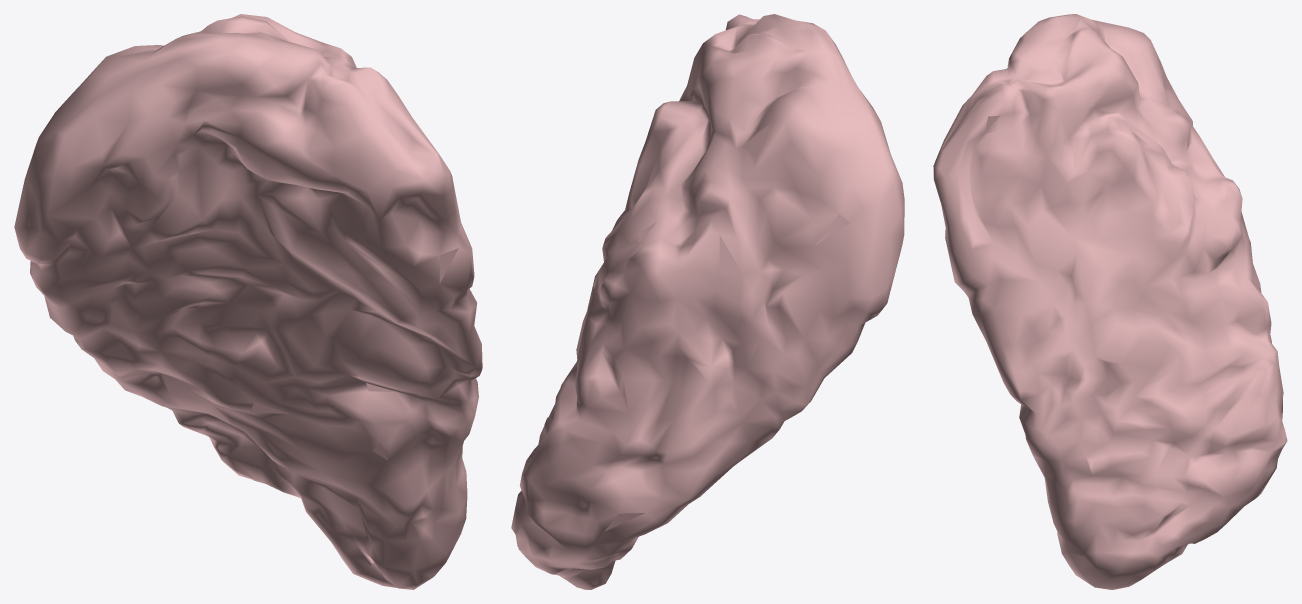
The model's file is 3d-vh-m-palatine-tonsil-l_lod_20.glb.
3 renders of one model, left to right at view 1: azimuth 30°, elevation 25°; view 2: azimuth 150°, elevation 25°; view 3: azimuth 270°, elevation 25°, orthographic. The views are drawn at different scales.
Visible parts, largest first — view 1: VH_M_palatine_tonsil_L; view 2: VH_M_palatine_tonsil_L; view 3: VH_M_palatine_tonsil_L.
Part boxes in pixels (x1,y1,x2,y2): VH_M_palatine_tonsil_L: (14, 14, 482, 589); VH_M_palatine_tonsil_L: (511, 14, 904, 589); VH_M_palatine_tonsil_L: (933, 14, 1287, 589).
Bounding box in the file's own units: 0.0164 × 0.0243 × 0.0159.
